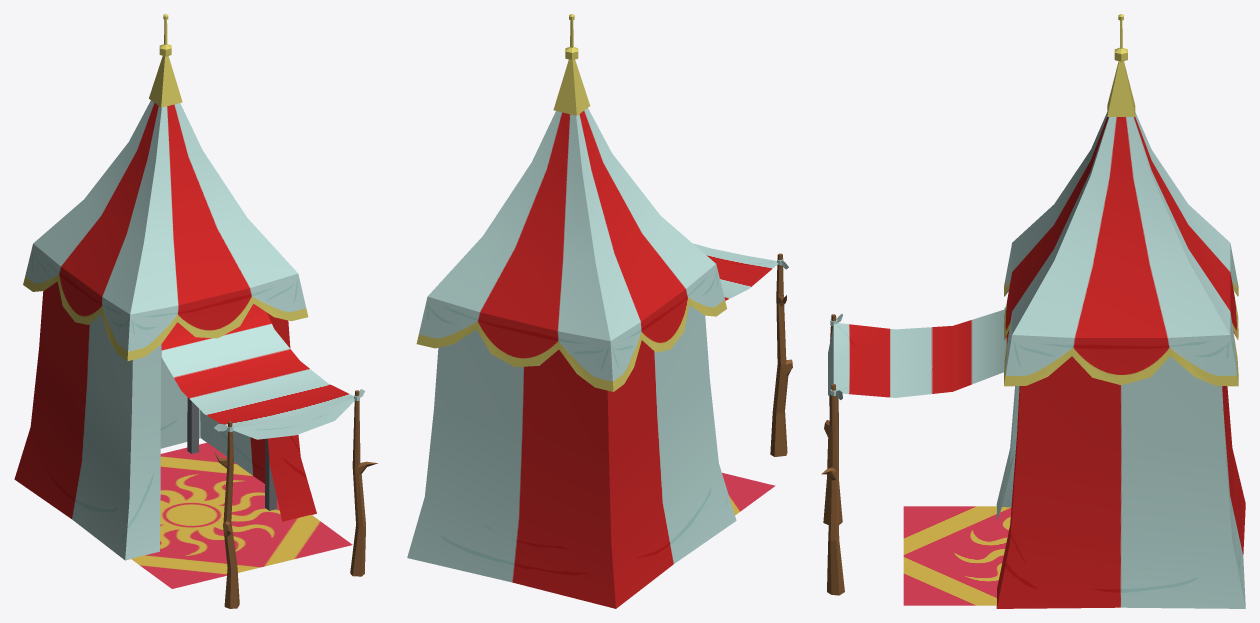
File: Tent 01.fbx
3 renders of one model, left to right at view 1: azimuth 30°, elevation 25°; view 2: azimuth 150°, elevation 25°; view 3: azimuth 270°, elevation 25°, orthographic. The views are drawn at different scales.
Visible parts, largest first — view 1: Tent_01; view 2: Tent_01; view 3: Tent_01.
Part boxes in pixels (x1,y1,x2,y2): Tent_01: (14, 14, 377, 608); Tent_01: (407, 14, 792, 608); Tent_01: (821, 14, 1245, 608).
Bounding box in the file's own units: 258 × 620 × 440.
